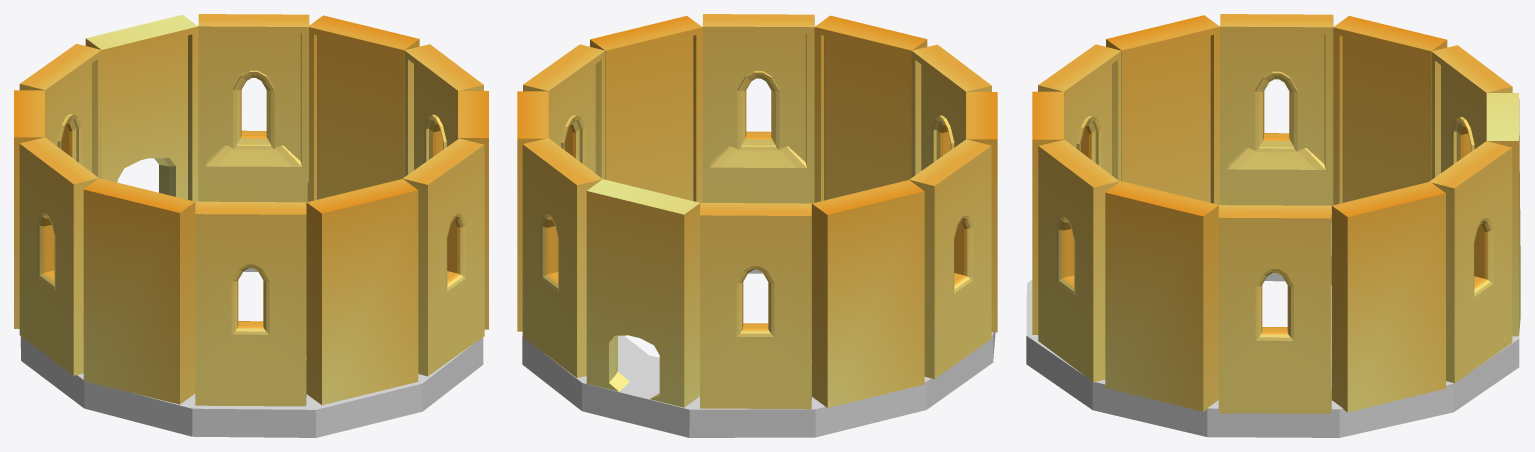
The model's file is stanza_grande.fbx.
3 views of the same model, side by side, from view 1: azimuth 30°, elevation 25°; view 2: azimuth 150°, elevation 25°; view 3: azimuth 270°, elevation 25° (orthographic).
Visible parts, largest first — view 1: pareteGrande_mod02.013, pareteGrande_mod02.001, pareteGrande_mod02.024, pareteGrande_mod02.018, pareteGrande_mod02.022, pareteGrande_mod01.003, pareteGrande_mod02.025, Cylinder.023, pareteGrande_mod02.021, pareteGrande_mod02.020, pareteGrande_mod02.017, pareteGrande_mod02.019 (+1 smaller); view 2: pareteGrande_mod02.019, pareteGrande_mod02.020, pareteGrande_mod01.003, pareteGrande_mod02.025, pareteGrande_mod02.015, pareteGrande_mod02.001, Cylinder.023, pareteGrande_mod02.021, pareteGrande_mod02.018, pareteGrande_mod02.017, pareteGrande_mod02.024, pareteGrande_mod02.013 (+1 smaller); view 3: pareteGrande_mod02.022, pareteGrande_mod02.015, pareteGrande_mod02.017, pareteGrande_mod02.021, pareteGrande_mod02.013, pareteGrande_mod02.019, pareteGrande_mod02.025, pareteGrande_mod02.018, Cylinder.023, pareteGrande_mod02.024, pareteGrande_mod02.020, pareteGrande_mod01.003 (+1 smaller).
Part boxes in pixels (x1,y1,x2,y2): pareteGrande_mod02.013: (83, 178, 195, 404); pareteGrande_mod02.001: (306, 179, 418, 405); pareteGrande_mod02.024: (195, 201, 306, 406); pareteGrande_mod02.018: (198, 14, 309, 202); pareteGrande_mod02.022: (307, 15, 419, 201); pareteGrande_mod01.003: (85, 14, 198, 213); pareteGrande_mod02.025: (402, 138, 484, 376); Cylinder.023: (20, 268, 483, 437); pareteGrande_mod02.021: (19, 137, 98, 375); pareteGrande_mod02.020: (19, 43, 101, 178); pareteGrande_mod02.017: (404, 44, 483, 176); pareteGrande_mod02.019: (14, 90, 44, 328); pareteGrande_mod02.019: (812, 180, 924, 407); pareteGrande_mod02.020: (700, 203, 811, 409); pareteGrande_mod01.003: (586, 179, 700, 407); pareteGrande_mod02.025: (702, 14, 814, 203); pareteGrande_mod02.015: (590, 16, 702, 202); pareteGrande_mod02.001: (814, 15, 927, 202); Cylinder.023: (522, 270, 995, 437); pareteGrande_mod02.021: (909, 139, 991, 378); pareteGrande_mod02.018: (522, 138, 602, 377); pareteGrande_mod02.017: (523, 44, 605, 179); pareteGrande_mod02.024: (911, 44, 991, 177); pareteGrande_mod02.013: (966, 92, 997, 332); pareteGrande_mod02.022: (1332, 182, 1445, 412); pareteGrande_mod02.015: (1105, 181, 1218, 411); pareteGrande_mod02.017: (1218, 205, 1331, 413); pareteGrande_mod02.021: (1220, 14, 1333, 222); pareteGrande_mod02.013: (1106, 15, 1219, 204); pareteGrande_mod02.019: (1333, 16, 1447, 205); pareteGrande_mod02.025: (1038, 139, 1119, 382); pareteGrande_mod02.018: (1429, 141, 1512, 383); Cylinder.023: (1026, 223, 1519, 437); pareteGrande_mod02.024: (1038, 44, 1121, 181); pareteGrande_mod02.020: (1431, 45, 1512, 179); pareteGrande_mod01.003: (1486, 93, 1520, 336).
Size of the model in its own units: 19774 by 10172 by 20192.
Materials: 13 (12 with a texture image).
